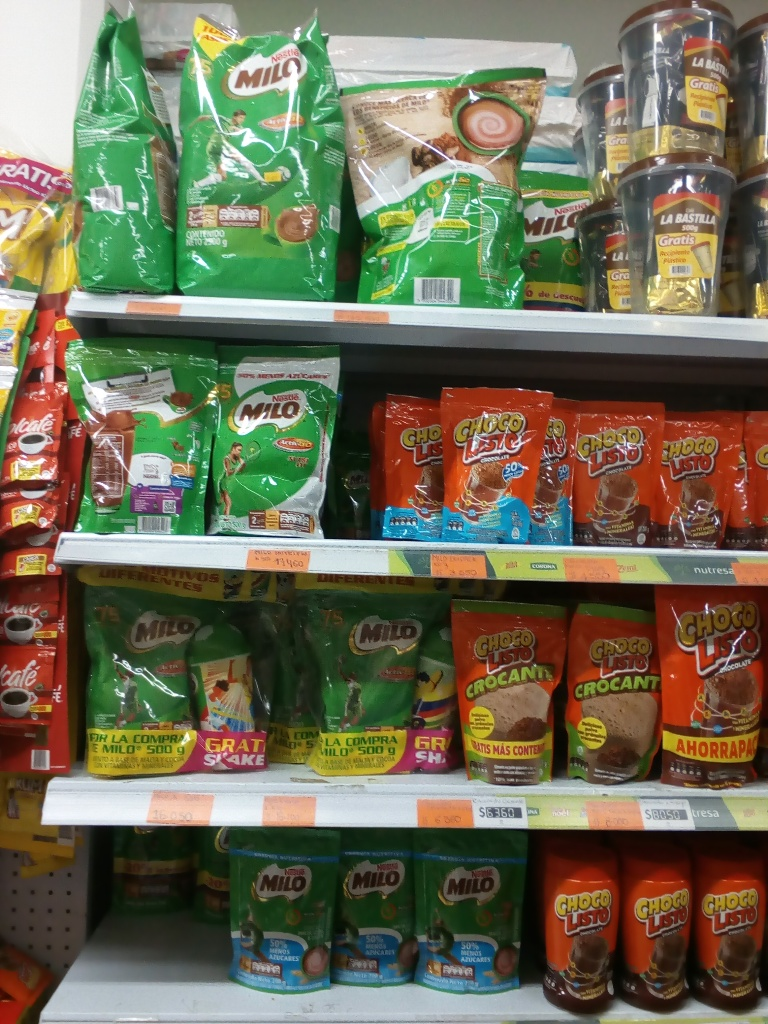COL0170102DYP25000: (564, 599, 654, 779)
COL0170103DYP44000: (651, 588, 761, 788)
COL0170103TRR30000: (534, 836, 613, 1019)
COL0170104DYP20000: (366, 397, 449, 538)
COL0170203DYP25000: (527, 172, 595, 312)
COL0170203DYP50000: (79, 338, 213, 534)
COL0170205DYP20000: (227, 830, 324, 994)
COL0170205DYP50000: (208, 350, 346, 536)
